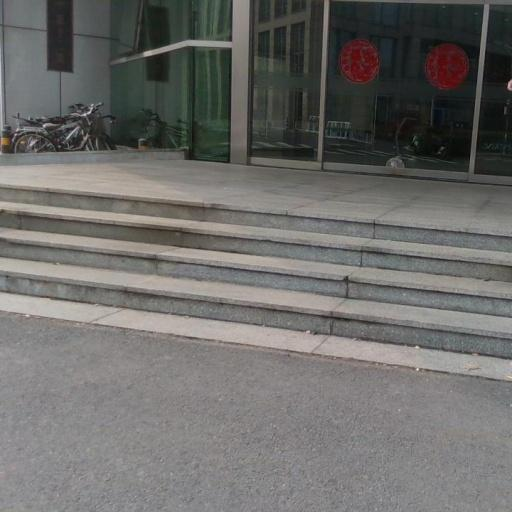stairs: (0, 186, 511, 356)
